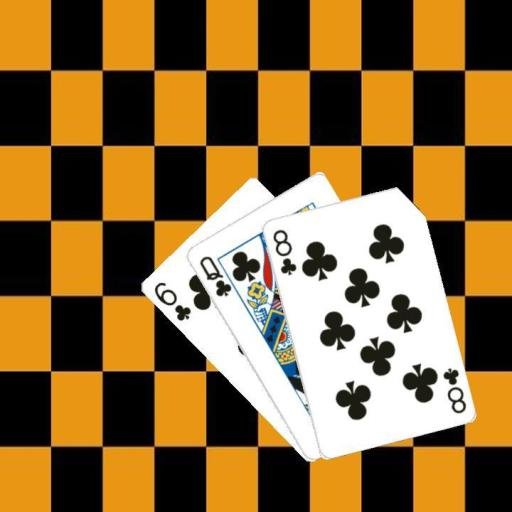6C: (150, 279, 192, 323)
8C: (269, 226, 298, 277), (440, 364, 467, 415)
QC: (196, 252, 233, 298)
